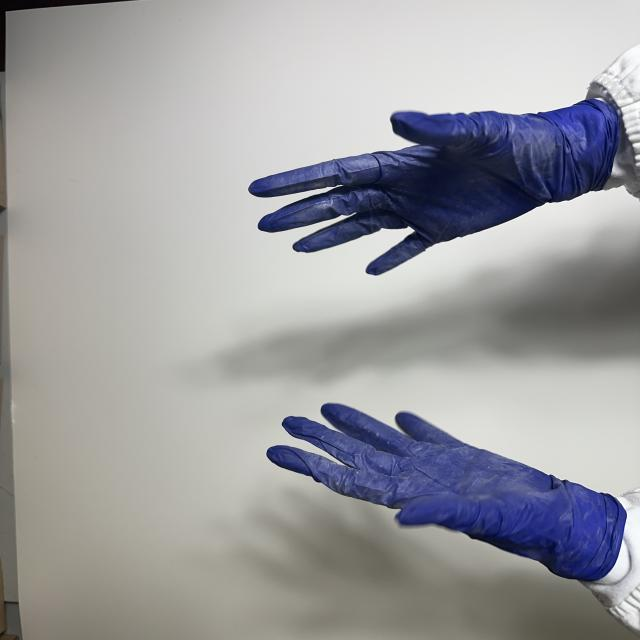gloves_contaminated: (249, 99, 620, 275), (267, 404, 627, 581)
